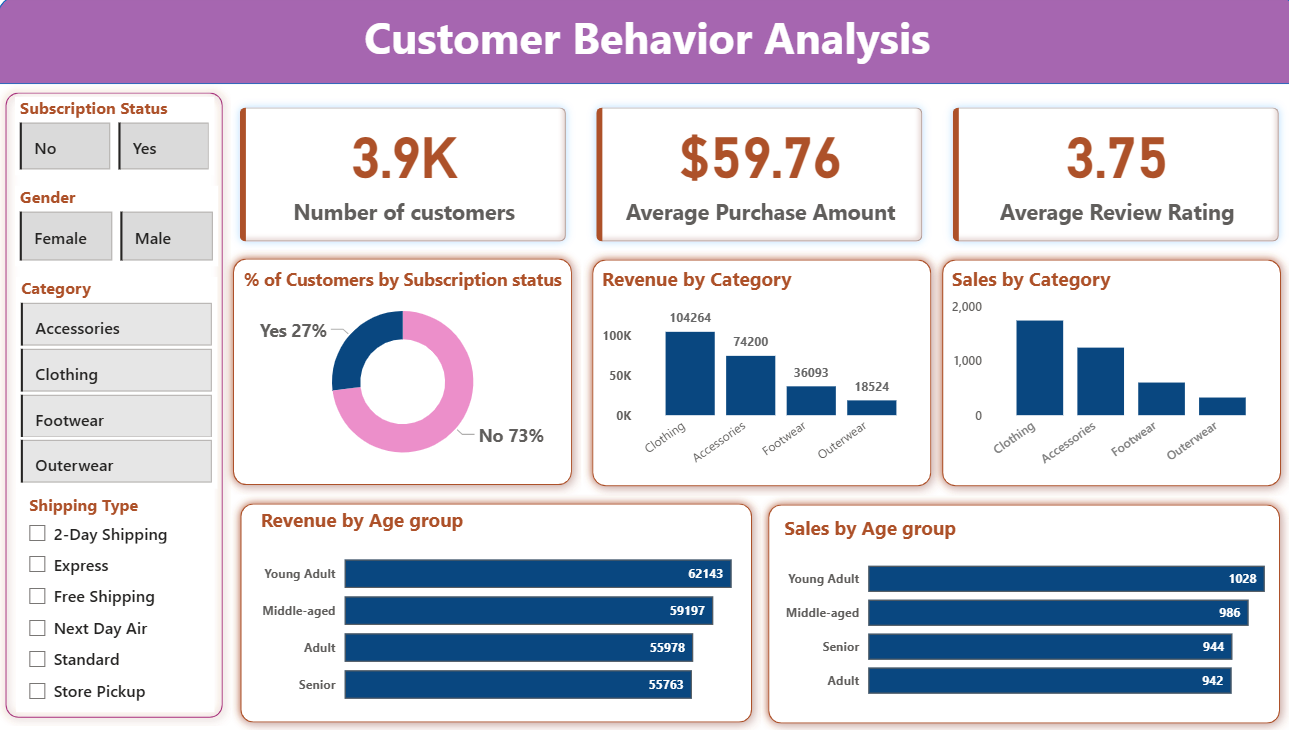

The page's visual inventory and layout, read from the dashboard file:
{"tool":"powerbi","page":{"name":"Page 1","canvas":[1280,731],"ordinal":0},"visuals":[{"type":"cardVisual","fields":{"Data":["public customer.Number of customers","public customer.Average Purchase Amount","public customer.Average Review Rating"]},"box":[223.3,95,1057.2,164.9],"z":0},{"type":"shape","box":[0,0,1280.5,87.9],"z":1000},{"type":"textbox","box":[0,7.4,1280.5,80.5],"z":2000},{"type":"shape","box":[223.3,250.5,351.7,241.1],"z":3000},{"type":"donutChart","title":"% of Customers by Subscription status ","fields":{"Category":["public customer.subscription_status"],"Y":["CountNonNull(public customer.customer_id)"]},"box":[237.9,267.2,323.5,210.8],"z":4000},{"type":"shape","box":[577.1,251.5,351.7,241.1],"z":5000},{"type":"shape","box":[921.5,251.5,351.7,241.1],"z":6000},{"type":"clusteredColumnChart","title":"Revenue by Category","fields":{"Y":["Sum(public customer.purchase_amount)"],"Category":["public customer.category"]},"box":[590.7,267.2,325.6,210.8],"z":7000},{"type":"clusteredColumnChart","title":"Sales by Category","fields":{"Y":["CountNonNull(public customer.customer_id)"],"Category":["public customer.category"]},"box":[935.1,267.2,325.6,210.8],"z":8000},{"type":"shape","box":[0,87.7,230.6,632.4],"z":9000},{"type":"advancedSlicerVisual","fields":{"Values":["public customer.subscription_status"]},"box":[17.7,100.2,196.2,77.2],"z":10000},{"type":"advancedSlicerVisual","fields":{"Values":["public customer.gender"]},"box":[17.7,187.8,200.4,79.3],"z":11000},{"type":"advancedSlicerVisual","fields":{"Values":["public customer.category"]},"box":[18.8,277.6,198.3,208.7],"z":12000},{"type":"slicer","fields":{"Values":["public customer.shipping_type"]},"box":[18.8,486.3,195.2,220.2],"z":13000},{"type":"shape","box":[750.4,492.6,521.8,233.8],"z":17000},{"type":"shape","box":[230.6,491.5,521.8,233.8],"z":17500},{"type":"clusteredBarChart","title":"Revenue by Age group","fields":{"Y":["Sum(public customer.purchase_amount)"],"Category":["public customer.age_group"]},"box":[254.6,504.1,473.8,209.8],"z":18000},{"type":"clusteredBarChart","title":"Sales by Age group","fields":{"Y":["CountNonNull(public customer.customer_id)"],"Category":["public customer.age_group"]},"box":[770.2,511.4,483.2,196.2],"z":18500}]}

Visuals, with their boxes in screenshot pixels (x1, y1, x2, y2), scaled from the page's 1280x731 canvas onto the 1289x730 screenshot:
cardVisual - public customer.Number of customers x public customer.Average Purchase Amount: bbox=(225, 95, 1288, 260)
shape: bbox=(0, 0, 1288, 88)
textbox: bbox=(0, 7, 1288, 88)
shape: bbox=(225, 250, 579, 491)
"% of Customers by Subscription status " donutChart: bbox=(240, 267, 565, 477)
shape: bbox=(581, 251, 935, 492)
shape: bbox=(928, 251, 1282, 492)
"Revenue by Category" clusteredColumnChart: bbox=(595, 267, 923, 477)
"Sales by Category" clusteredColumnChart: bbox=(942, 267, 1270, 477)
shape: bbox=(0, 88, 232, 719)
advancedSlicerVisual - public customer.subscription_status: bbox=(18, 100, 215, 177)
advancedSlicerVisual - public customer.gender: bbox=(18, 188, 220, 267)
advancedSlicerVisual - public customer.category: bbox=(19, 277, 219, 486)
slicer - public customer.shipping_type: bbox=(19, 486, 216, 706)
shape: bbox=(756, 492, 1281, 725)
shape: bbox=(232, 491, 758, 724)
"Revenue by Age group" clusteredBarChart: bbox=(256, 503, 734, 713)
"Sales by Age group" clusteredBarChart: bbox=(776, 511, 1262, 707)
